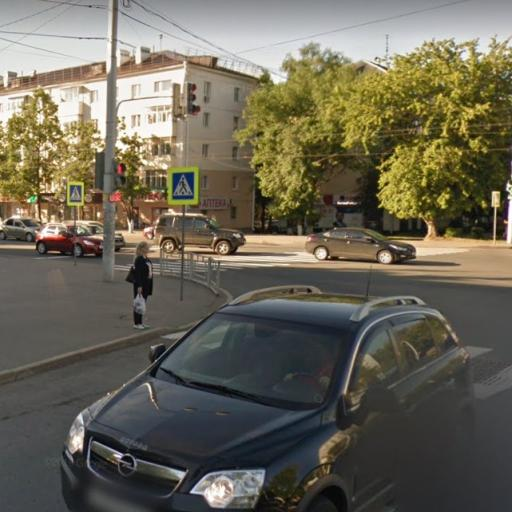traffic_sign: (164, 163, 205, 209), (65, 179, 88, 210)
